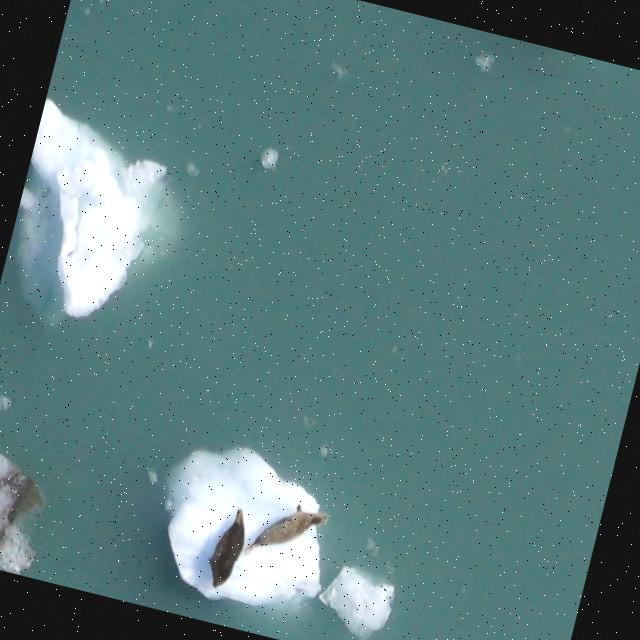seal: (236, 488, 332, 575), (197, 499, 256, 595)
